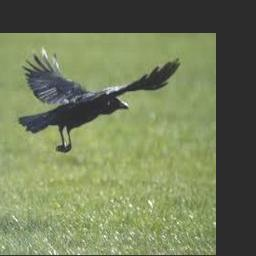Crow: (17, 43, 180, 153)
